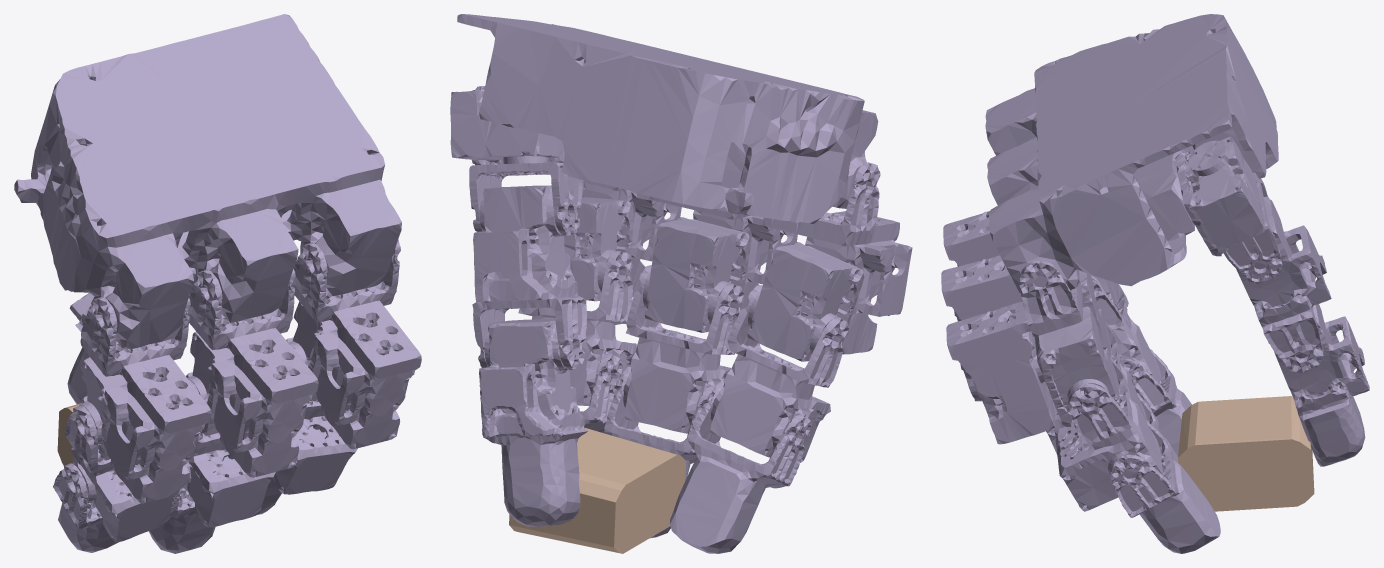
The model's file is case-03-final.glb.
3 views of the same model, side by side, from view 1: azimuth 30°, elevation 25°; view 2: azimuth 150°, elevation 25°; view 3: azimuth 270°, elevation 25° (orthographic). The views are drawn at different scales.
Parts seen in each view (by area): view 1: world, surface.obj; view 2: world, surface.obj; view 3: world, surface.obj.
Boxes of the visible parts, box(x1,y1,x2,y2) form: world: box(14, 14, 421, 553); surface.obj: box(57, 403, 81, 465); world: box(450, 14, 912, 553); surface.obj: box(509, 427, 685, 553); world: box(941, 14, 1369, 553); surface.obj: box(1178, 396, 1314, 511).
Bounding box in the file's own units: 0.1266 × 0.1955 × 0.1624.
